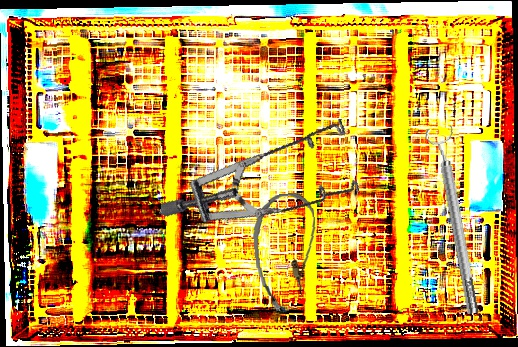Cannula: (249, 191, 324, 313)
Fixation Ring: (423, 124, 488, 317)
Speculum: (158, 76, 378, 268)
